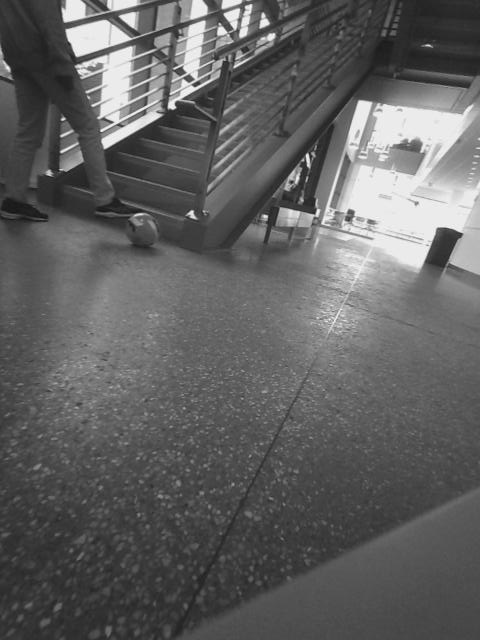ball: (125, 211, 163, 249)
